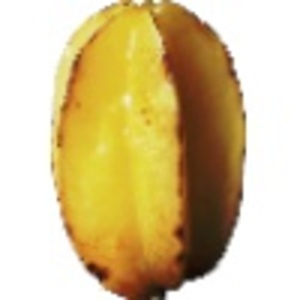carambola: (49, 1, 248, 300)
